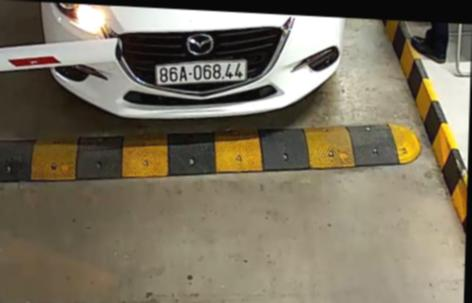License_Plate: (154, 55, 250, 90)
